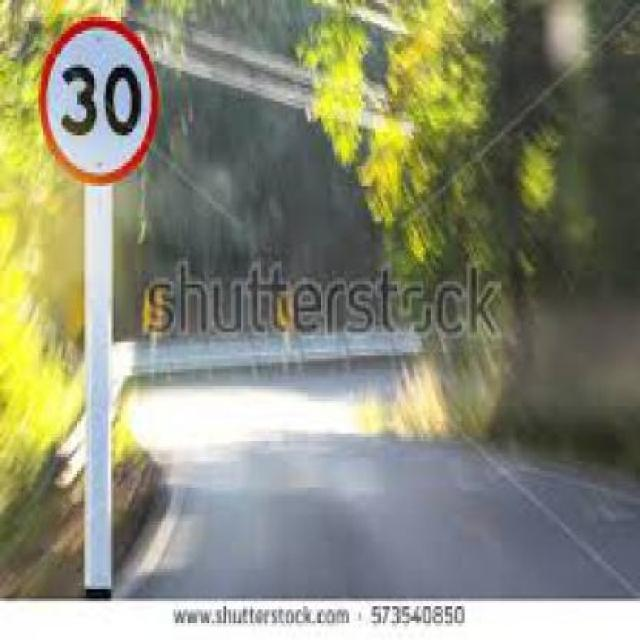forb_speed_over_30: (39, 17, 166, 189)
